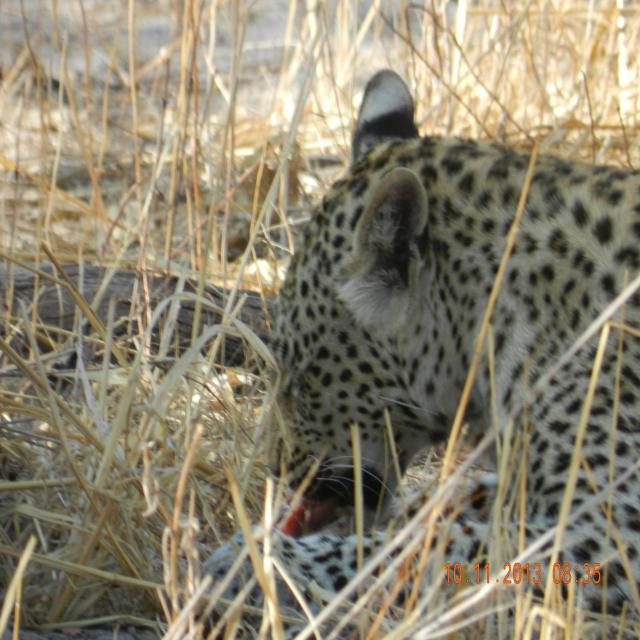Leopard: (208, 38, 637, 640)
